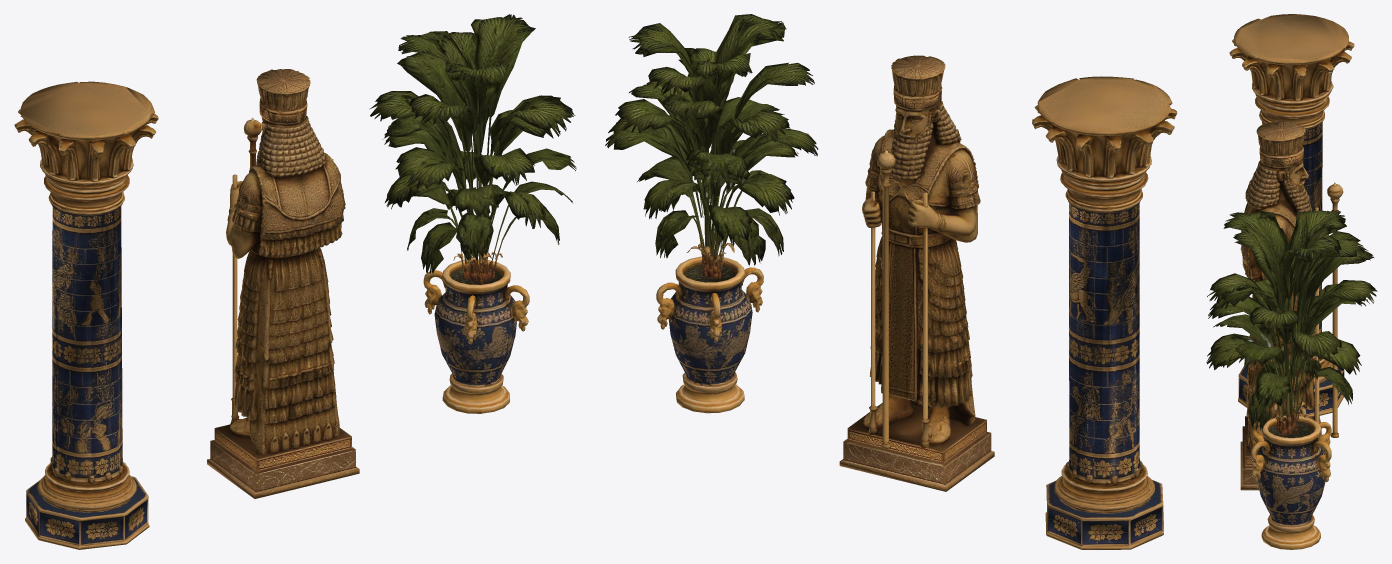
The model's file is اثاث الخزانة 3.glb.
3 views of the same model, side by side, from view 1: azimuth 30°, elevation 25°; view 2: azimuth 150°, elevation 25°; view 3: azimuth 270°, elevation 25° (orthographic). The views are drawn at different scales.
Parts seen in each view (by area): view 1: tripo_node_90388d41-10dc-4758-bb02-d319297517fc, tripo_node_8b81bb86-1b34-4b05-9b8c-637ef22145bc, tripo_node_1c9b2f99-8a11-4eb8-ad3b-b652fddfdcea; view 2: tripo_node_90388d41-10dc-4758-bb02-d319297517fc, tripo_node_8b81bb86-1b34-4b05-9b8c-637ef22145bc, tripo_node_1c9b2f99-8a11-4eb8-ad3b-b652fddfdcea; view 3: tripo_node_1c9b2f99-8a11-4eb8-ad3b-b652fddfdcea, tripo_node_8b81bb86-1b34-4b05-9b8c-637ef22145bc, tripo_node_90388d41-10dc-4758-bb02-d319297517fc.
Part boxes in pixels (x1,y1,x2,y2): tripo_node_90388d41-10dc-4758-bb02-d319297517fc: [207, 69, 359, 498]; tripo_node_8b81bb86-1b34-4b05-9b8c-637ef22145bc: [14, 81, 158, 549]; tripo_node_1c9b2f99-8a11-4eb8-ad3b-b652fddfdcea: [369, 14, 576, 413]; tripo_node_90388d41-10dc-4758-bb02-d319297517fc: [839, 55, 994, 491]; tripo_node_8b81bb86-1b34-4b05-9b8c-637ef22145bc: [1032, 76, 1177, 549]; tripo_node_1c9b2f99-8a11-4eb8-ad3b-b652fddfdcea: [605, 14, 818, 413]; tripo_node_1c9b2f99-8a11-4eb8-ad3b-b652fddfdcea: [1206, 210, 1377, 549]; tripo_node_8b81bb86-1b34-4b05-9b8c-637ef22145bc: [1229, 14, 1354, 416]; tripo_node_90388d41-10dc-4758-bb02-d319297517fc: [1240, 120, 1343, 490].
Size of the model in its own units: 1.36 by 0.998 by 0.4317.
3 materials, 3 textured.
